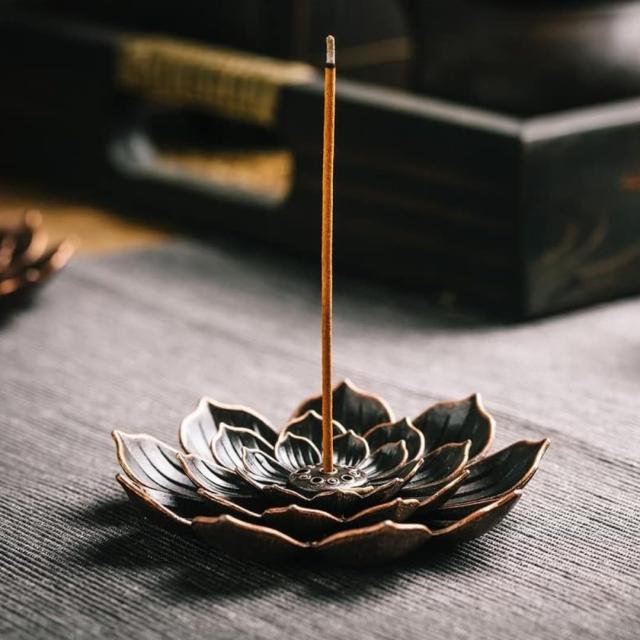Agarbatti: (307, 23, 359, 478)
